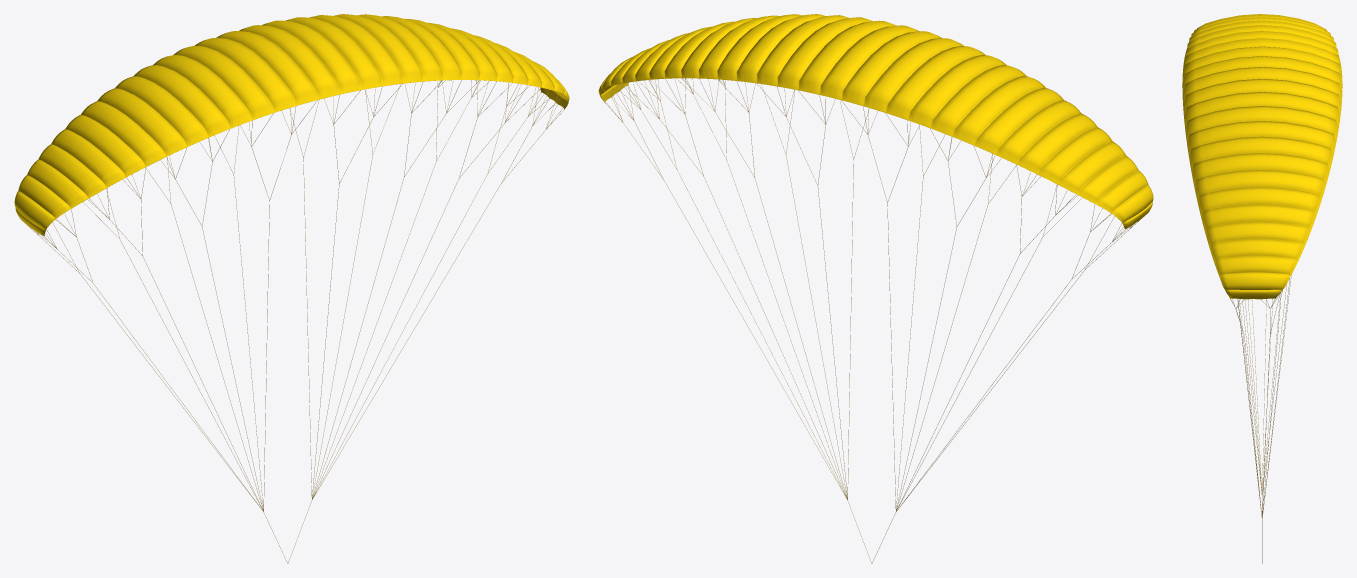
File: Paraglider.glb
3 renders of one model, left to right at view 1: azimuth 30°, elevation 25°; view 2: azimuth 150°, elevation 25°; view 3: azimuth 270°, elevation 25°, orthographic. The views are drawn at different scales.
Parts seen in each view (by area): view 1: Paraglider_v_2_00, Paraglider_v_2_01; view 2: Paraglider_v_2_00, Paraglider_v_2_01; view 3: Paraglider_v_2_00, Paraglider_v_2_01.
Boxes of the visible parts, x1,y1,x2,y2 form: Paraglider_v_2_00: (14,14,569,236); Paraglider_v_2_01: (29,80,567,563); Paraglider_v_2_00: (598,14,1153,229); Paraglider_v_2_01: (600,78,1140,563); Paraglider_v_2_00: (1182,14,1342,299); Paraglider_v_2_01: (1230,275,1291,563).
Size of the model in its own units: 23.24 by 21.93 by 6.29.
